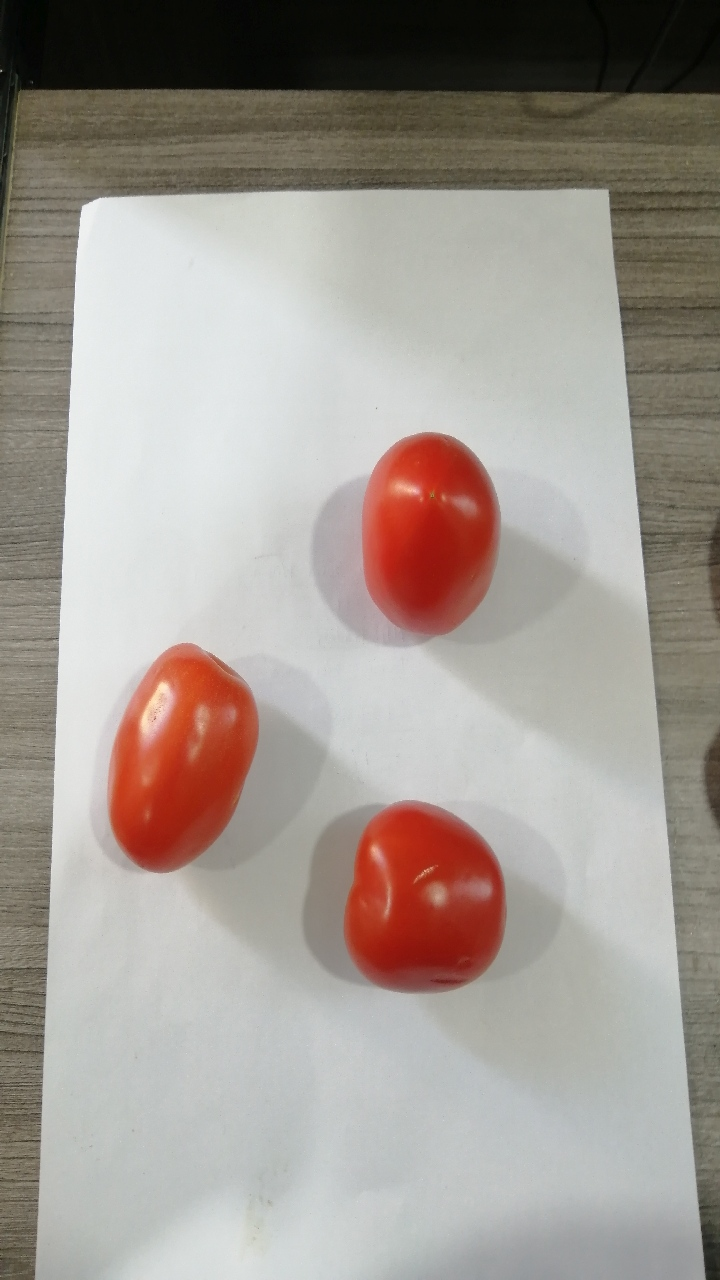tomateRojo: (75, 620, 266, 889), (321, 779, 518, 1005), (338, 423, 517, 659)
